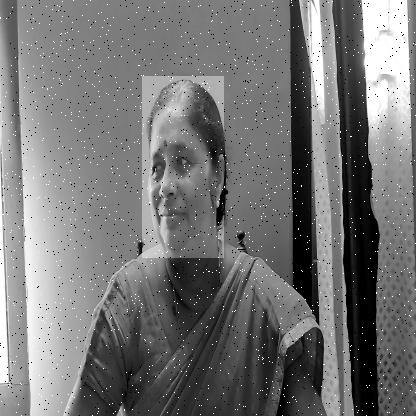Distracted: (142, 76, 224, 258)
